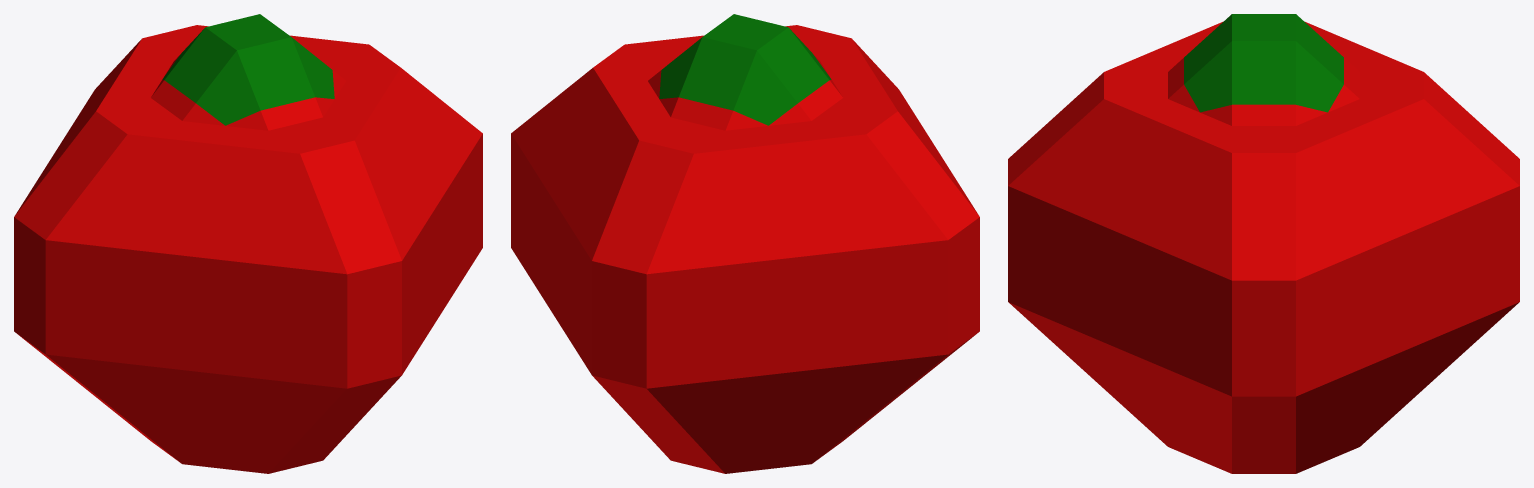
File: Game_tomato.fbx
3 renders of one model, left to right at view 1: azimuth 30°, elevation 25°; view 2: azimuth 150°, elevation 25°; view 3: azimuth 270°, elevation 25°, orthographic.
Visible parts, largest first — view 1: tomato_mc; view 2: tomato_mc; view 3: tomato_mc.
Boxes of the visible parts, x1,y1,x2,y2 form: tomato_mc: (14, 14, 482, 473); tomato_mc: (511, 14, 979, 473); tomato_mc: (1008, 14, 1519, 473).
Bounding box in the file's own units: 0.8 × 0.7 × 0.8.
